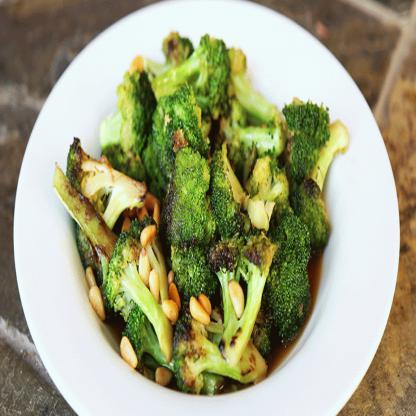broccoli: (54, 29, 348, 396)
